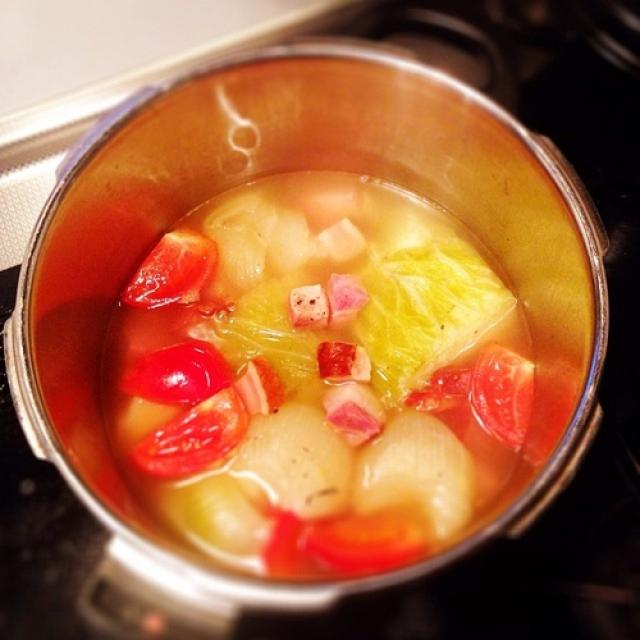汤锅炖物: (83, 116, 560, 584)
